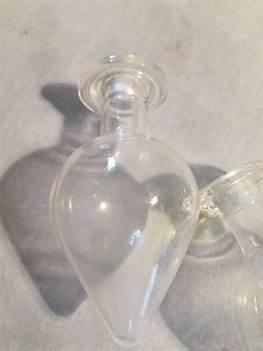Pear shaped flask: (50, 48, 201, 335)
